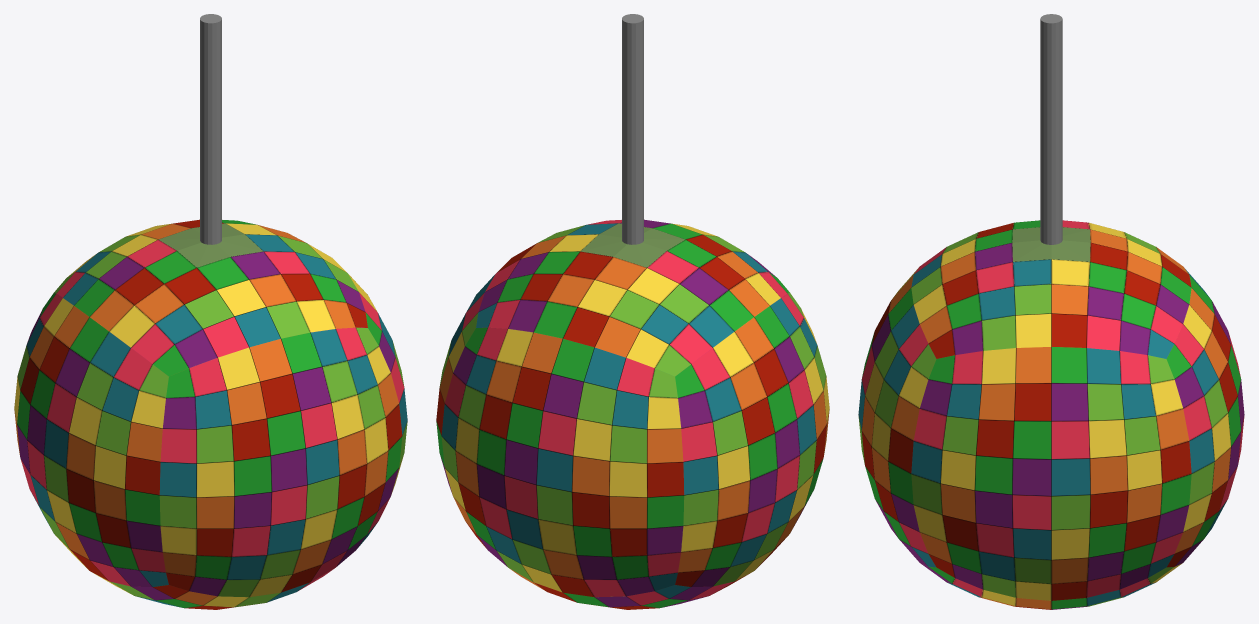
Rendered from discoBall.fbx.
3 views of the same model, side by side, from view 1: azimuth 30°, elevation 25°; view 2: azimuth 150°, elevation 25°; view 3: azimuth 270°, elevation 25° (orthographic).
Visible parts, largest first — view 1: Cylinder; view 2: Cylinder; view 3: Cylinder.
Boxes of the visible parts, x1=… form: Cylinder: x1=14, y1=14, x2=407, y2=609; Cylinder: x1=436, y1=14, x2=829, y2=609; Cylinder: x1=858, y1=14, x2=1244, y2=609.
Size of the model in its own units: 168 by 274 by 168.
